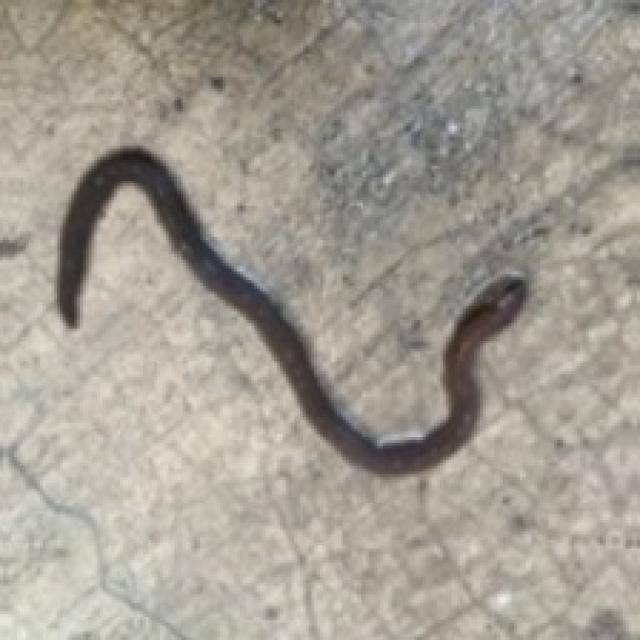gervais worm snake: (57, 149, 526, 471)
